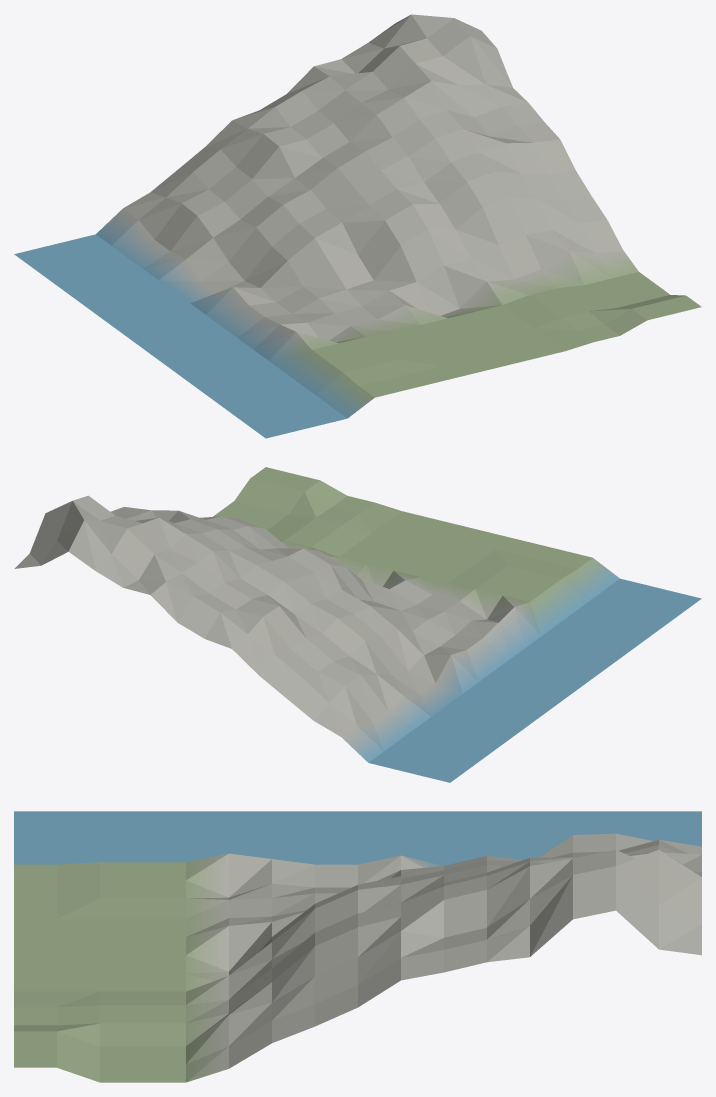
3 views of the same model, one above another, from view 1: azimuth 30°, elevation 25°; view 2: azimuth 150°, elevation 25°; view 3: azimuth 270°, elevation 25° (orthographic). The views are drawn at different scales.
Size of the model in its own units: 32 by 11.18 by 32.
